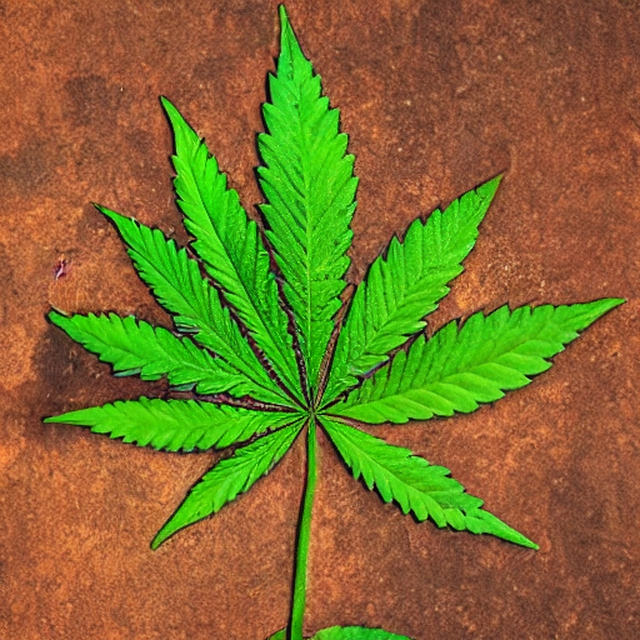Marijuana Leaf: (40, 1, 627, 639)
